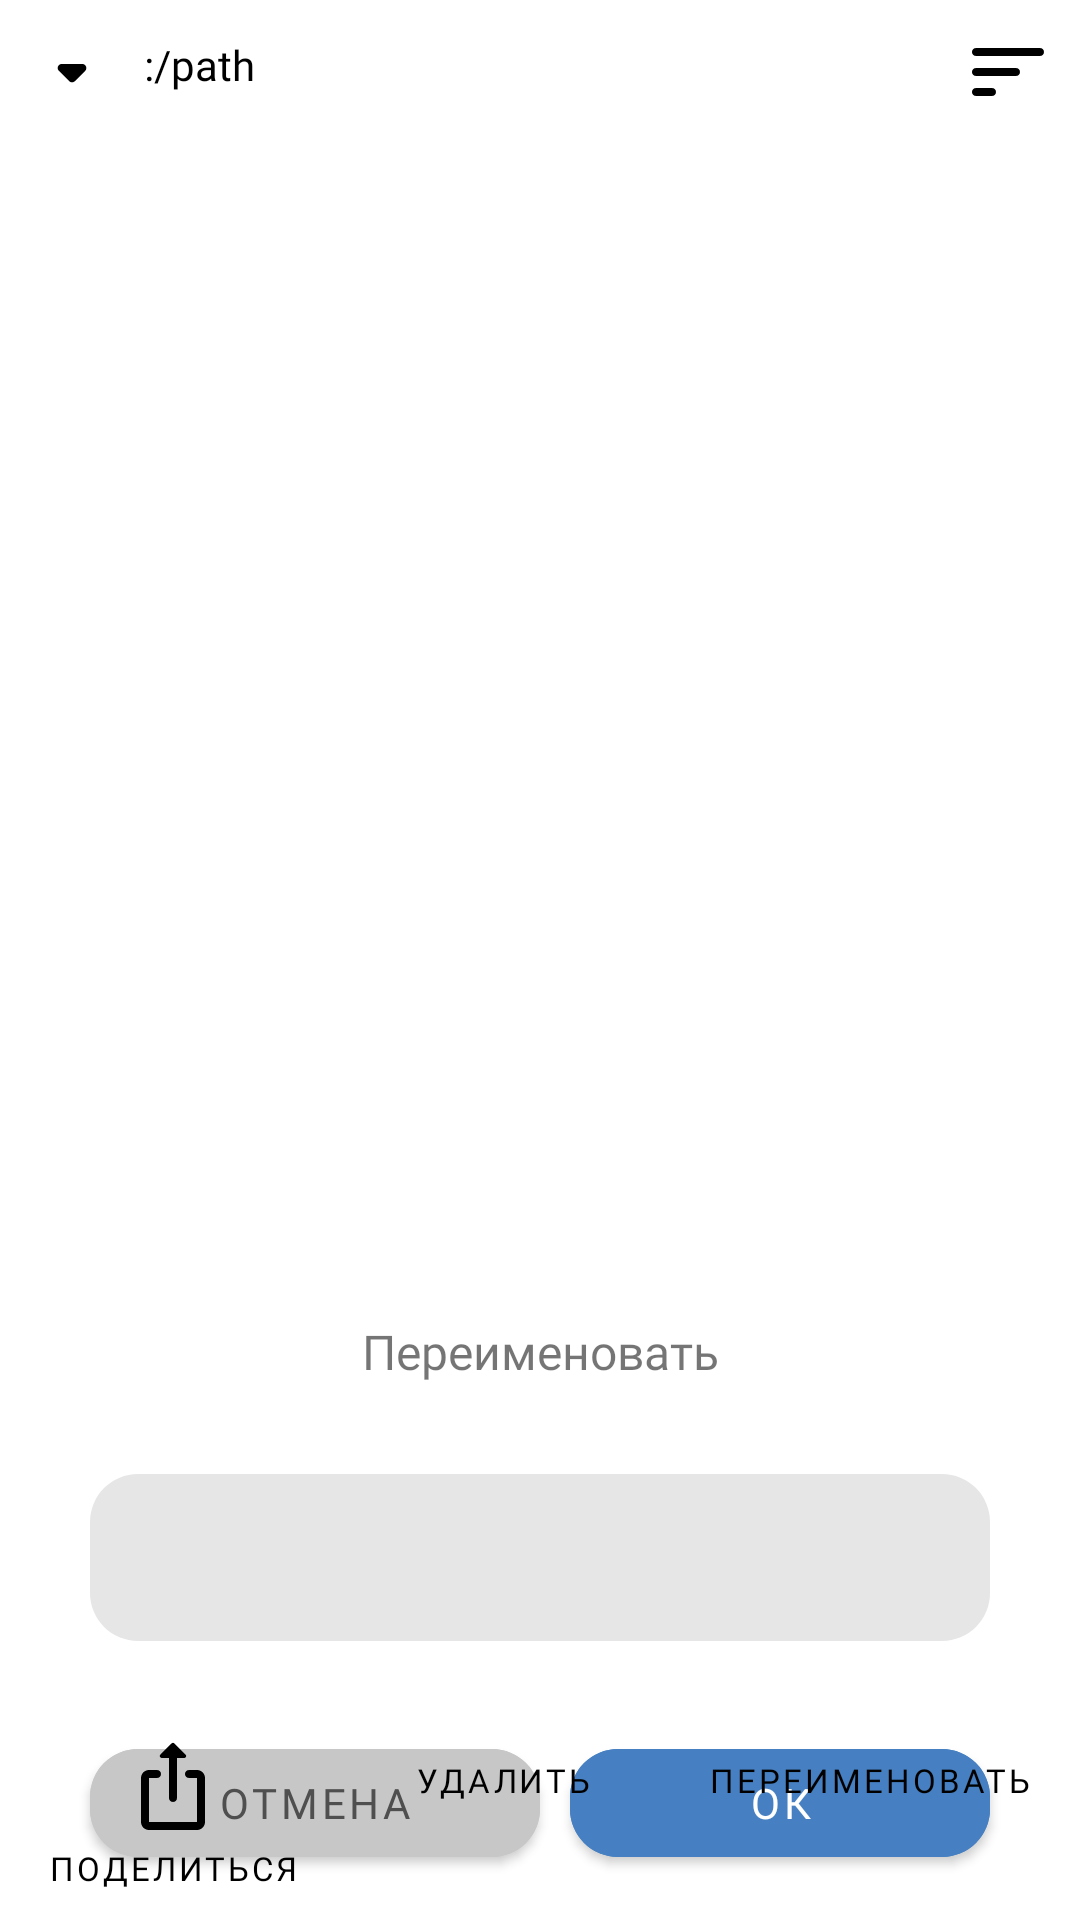

Screen size 1080×1920. Icon name, then its center in pixels as (x,y):
dropdown: (72,73)
sort: (1008,72)
